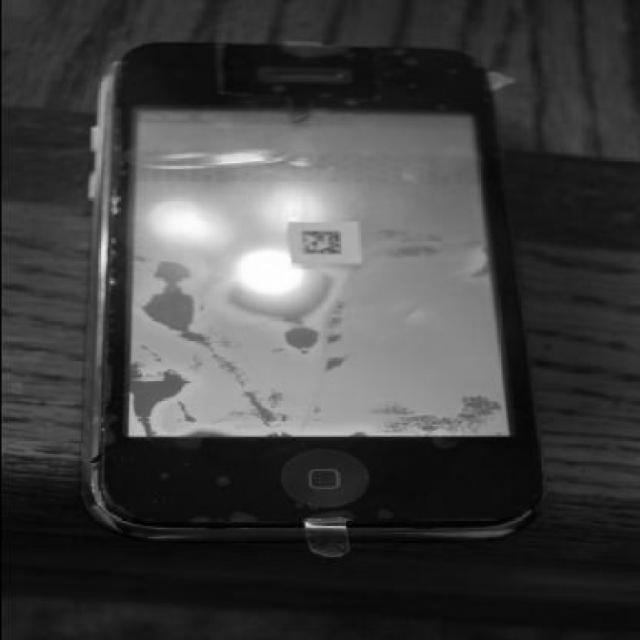fake: (66, 24, 528, 587)
